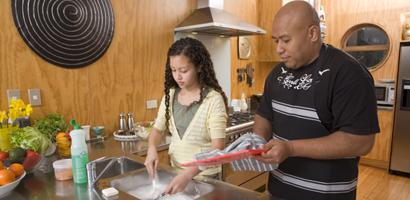person: (143, 37, 228, 196)
